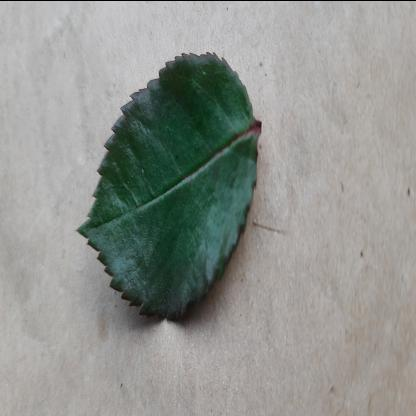powdery-mildew: (78, 30, 262, 324)
